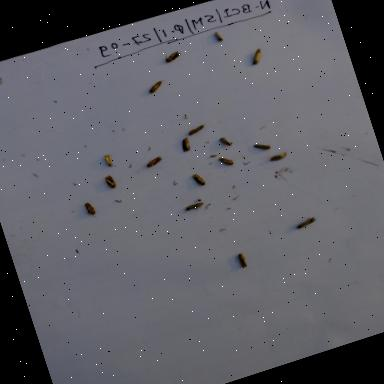pbw: (236, 43, 274, 77), (286, 208, 326, 238), (73, 194, 105, 227), (136, 149, 167, 177), (177, 194, 213, 218), (138, 76, 170, 103), (246, 133, 278, 160), (265, 144, 297, 170), (186, 166, 214, 194), (98, 168, 127, 195), (95, 148, 122, 172), (234, 249, 252, 271), (216, 152, 236, 171), (161, 47, 183, 64), (183, 121, 206, 136), (178, 134, 195, 154), (210, 28, 226, 44), (217, 134, 233, 150)
